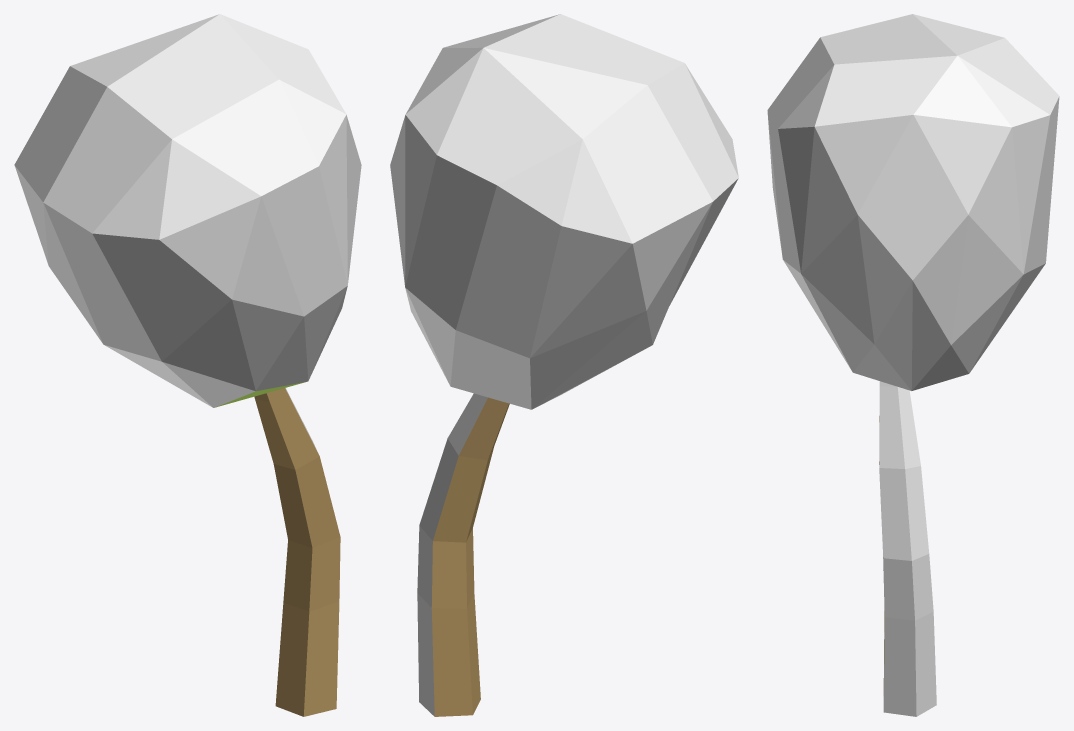
The model's file is Simple_Tree_m_Snow_BT_07.fbx.
3 views of the same model, side by side, from view 1: azimuth 30°, elevation 25°; view 2: azimuth 150°, elevation 25°; view 3: azimuth 270°, elevation 25° (orthographic). The views are drawn at different scales.
Visible parts, largest first — view 1: Simple_Tree_m_Snow_BT_07; view 2: Simple_Tree_m_Snow_BT_07; view 3: Simple_Tree_m_Snow_BT_07.
Boxes of the visible parts, left/top/right/bottom form: Simple_Tree_m_Snow_BT_07: left=14, top=14, right=361, bottom=716; Simple_Tree_m_Snow_BT_07: left=390, top=14, right=738, bottom=716; Simple_Tree_m_Snow_BT_07: left=767, top=14, right=1059, bottom=716.
Bounding box in the file's own units: 325 × 701 × 298.
